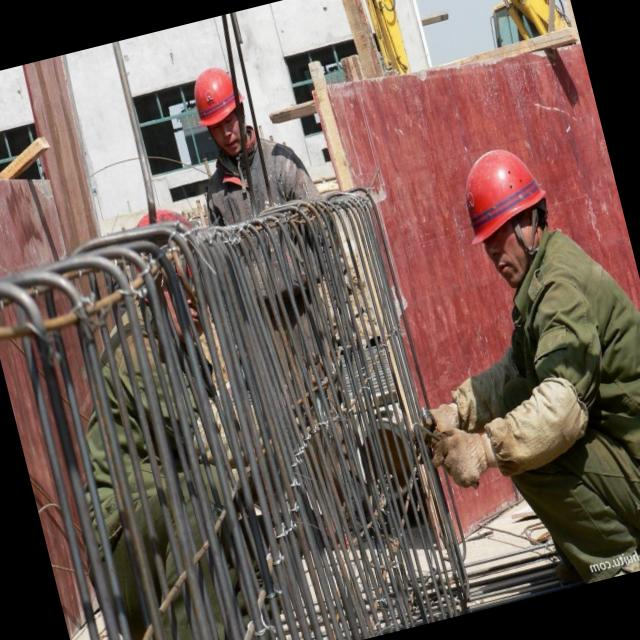helmet: (446, 141, 560, 250), (180, 61, 244, 130)
no-vest: (482, 229, 640, 563)
